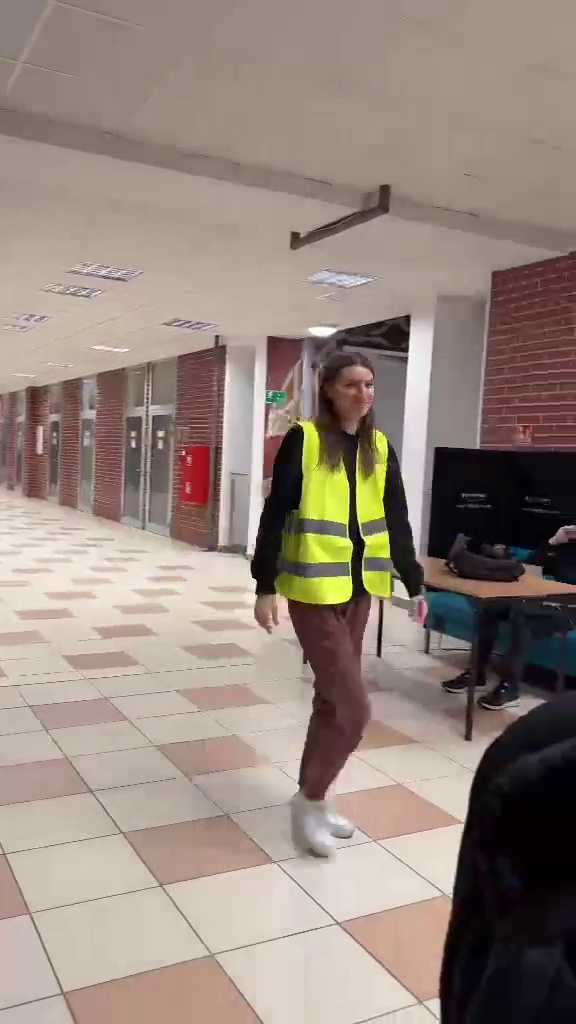vest: (254, 348, 427, 861)
